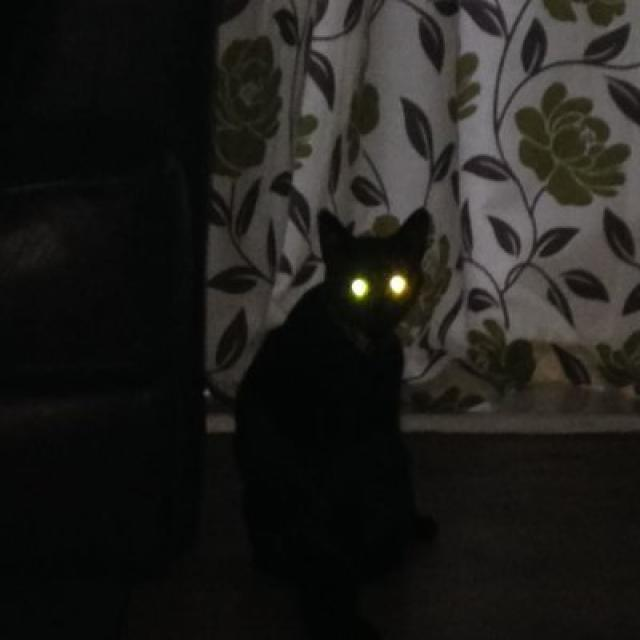Cat: (211, 183, 437, 640)
